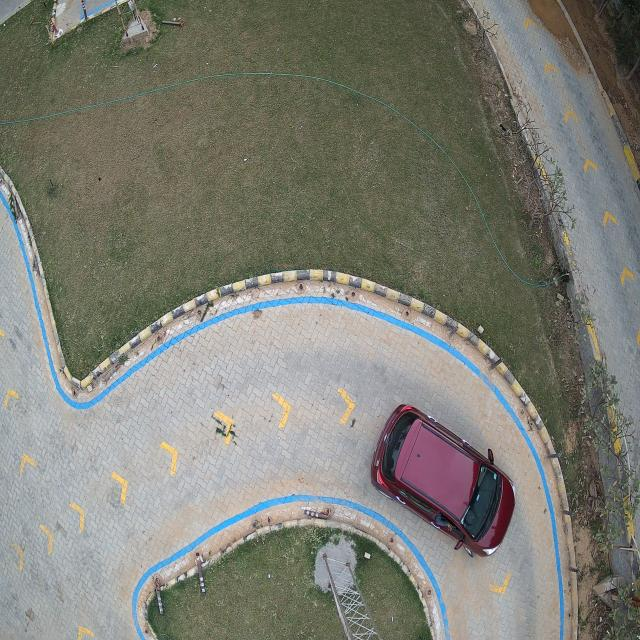car: (371, 405, 515, 557)
